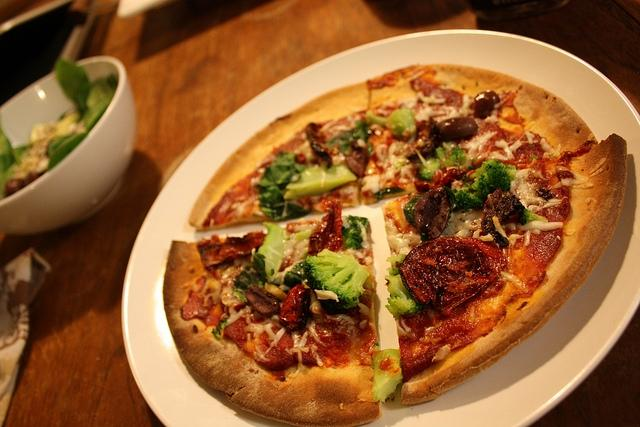broccoli: (302, 249, 370, 309), (384, 254, 426, 320), (282, 164, 358, 199), (463, 158, 518, 199), (253, 221, 284, 283), (372, 348, 404, 404), (324, 120, 372, 157), (367, 109, 418, 142), (414, 149, 440, 179), (443, 142, 467, 166)
